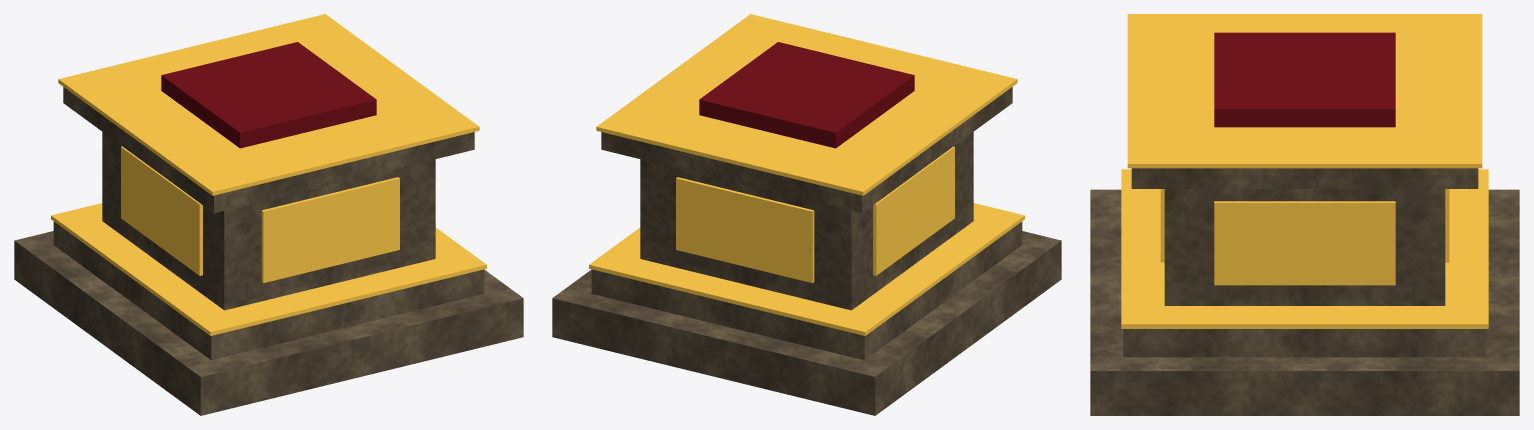
Rendered from hoard_plinth.glb.
3 renders of one model, left to right at view 1: azimuth 30°, elevation 25°; view 2: azimuth 150°, elevation 25°; view 3: azimuth 270°, elevation 25°, orthographic. The views are drawn at different scales.
Bounding box in the file's own units: 5.2 × 3.4 × 5.2.
Materials: 3 (3 with a texture image).
